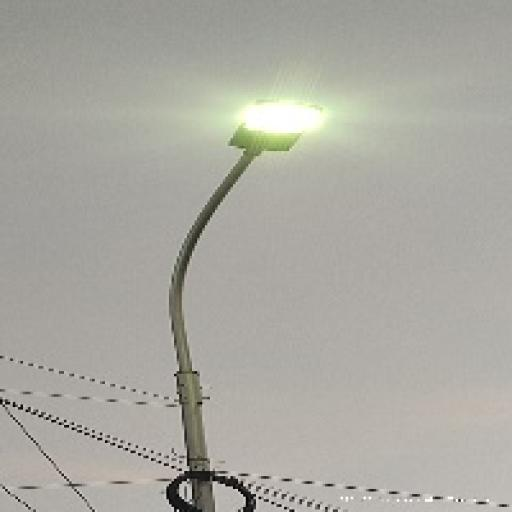Working: (219, 86, 330, 181)
